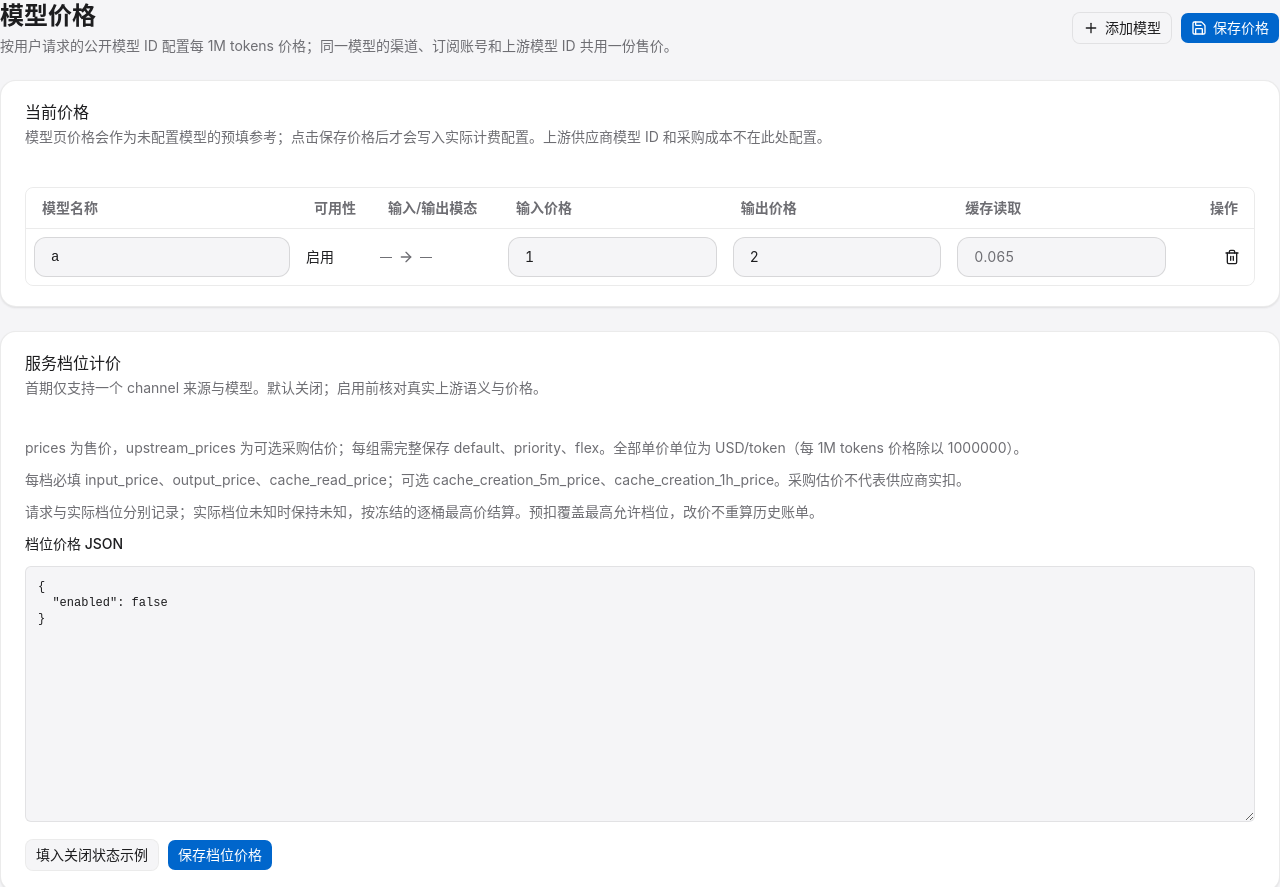
Scenario: AdminPricingPage › does not leave partial prices when one configuration write fails
This screenshot has width=1280, height=887.
Expected: the field showing "a" is shown, [34,236,290,276]
What coordinates should you click on to do the following:
click the button "保存价格"
I would click on:
 (1230, 28)
Its box is [1180,12,1279,44].
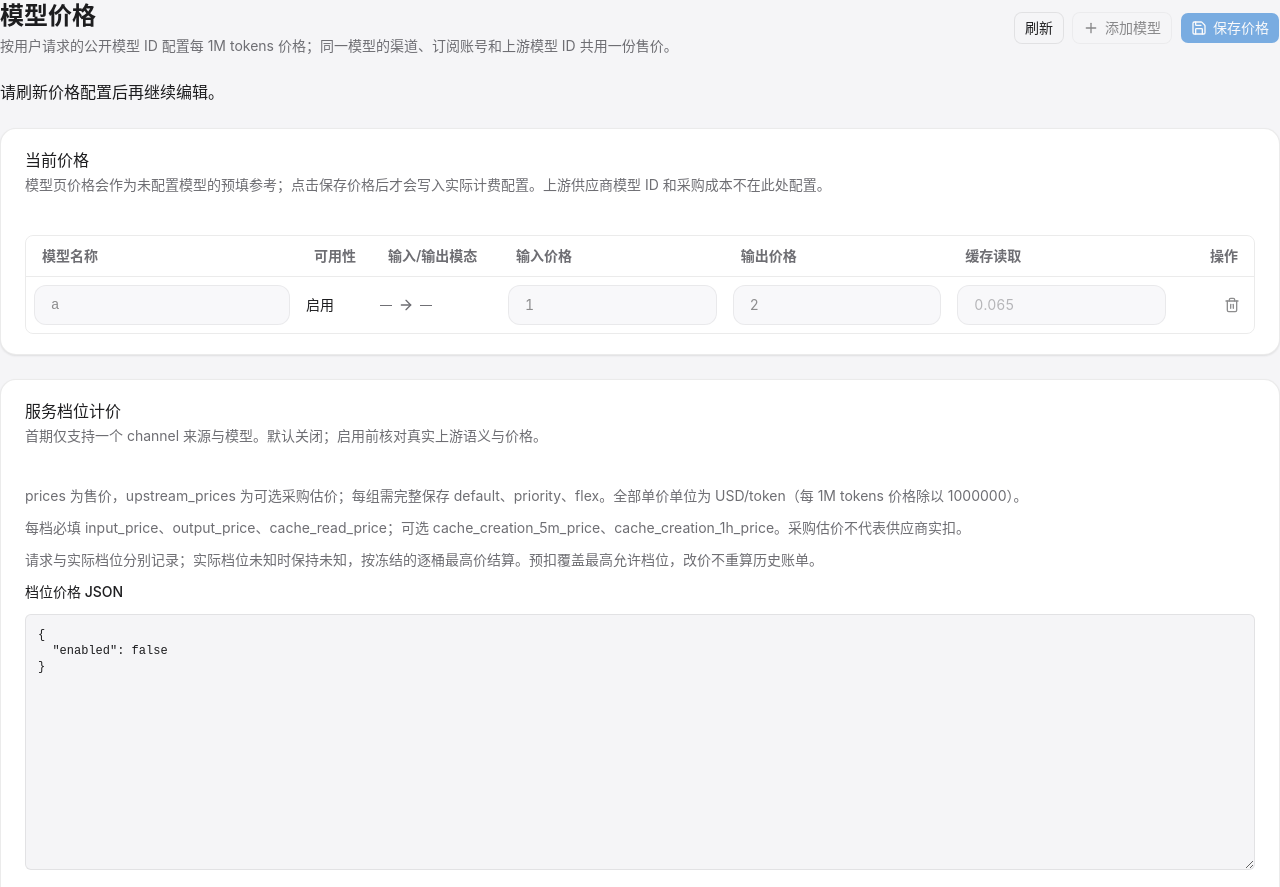
Now the button "刷新" is enabled, box [1014,12,1064,44]
Now the button "保存价格" is disabled, box [1180,12,1279,44]
